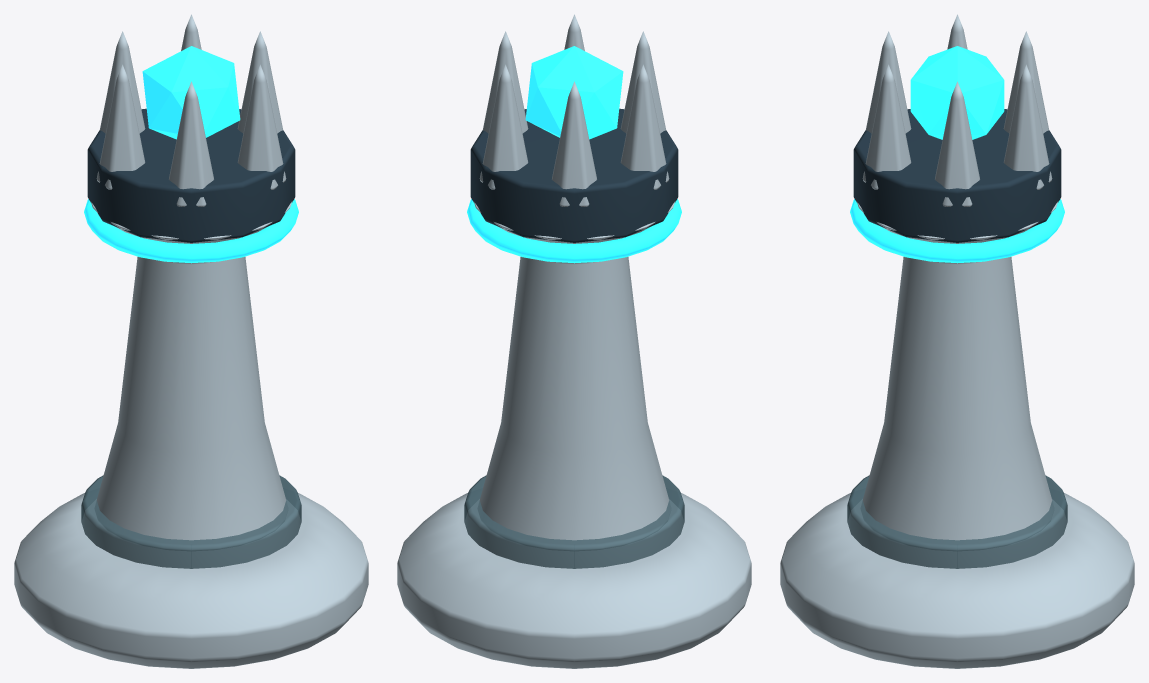
The picture shows the model from 3 angles, left to right: view 1: azimuth 30°, elevation 25°; view 2: azimuth 150°, elevation 25°; view 3: azimuth 270°, elevation 25°; orthographic projection.
Visible parts, largest first — view 1: SciFi_q_w; view 2: SciFi_q_w; view 3: SciFi_q_w.
Boxes of the visible parts, bbox=[...] form: SciFi_q_w: bbox=[14, 14, 368, 668]; SciFi_q_w: bbox=[397, 14, 751, 668]; SciFi_q_w: bbox=[780, 14, 1134, 668].
Bounding box in the file's own units: 0.58 × 1 × 0.58.
